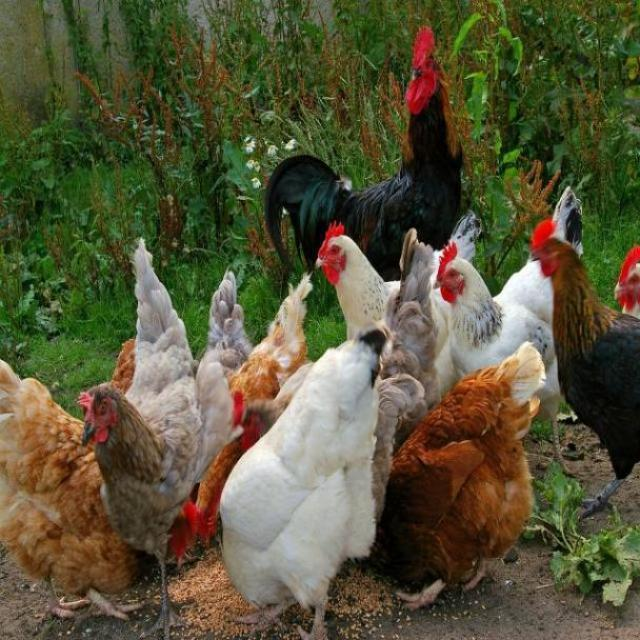Chicken: (220, 325, 428, 640), (78, 238, 238, 640), (0, 344, 198, 630), (263, 26, 463, 282), (362, 344, 546, 610), (432, 186, 585, 480), (529, 217, 640, 519), (196, 266, 314, 545), (315, 219, 481, 407), (233, 363, 321, 448), (612, 243, 640, 318)
